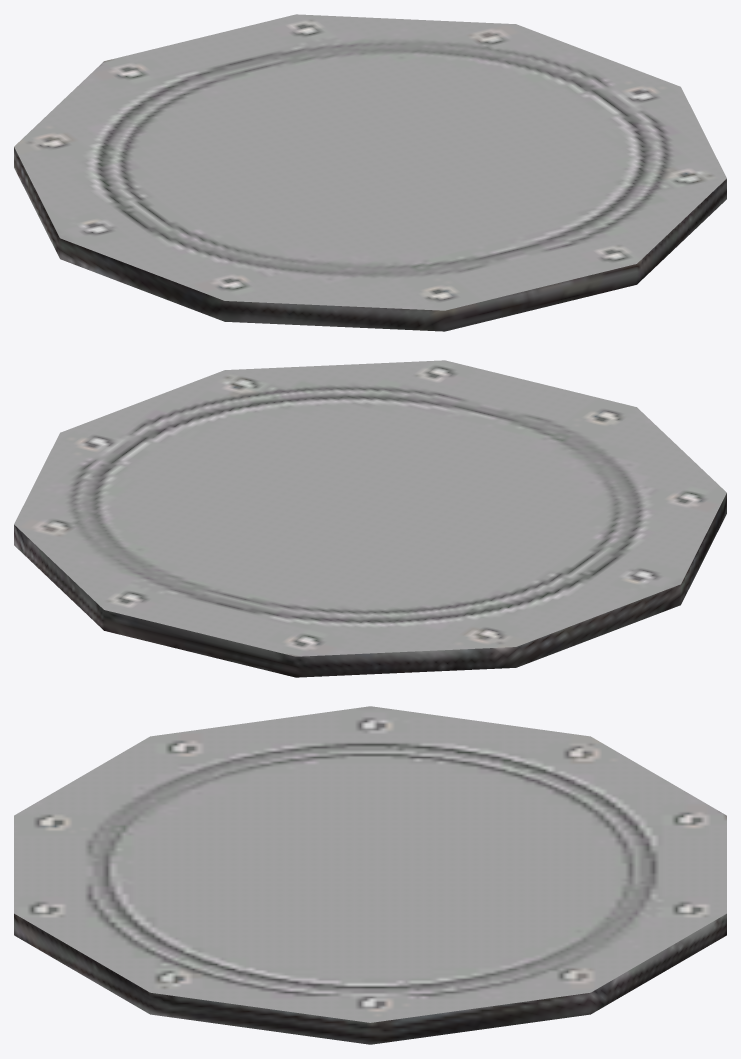
File: msb.glb
The picture shows the model from 3 angles, top to bottom: view 1: azimuth 30°, elevation 25°; view 2: azimuth 150°, elevation 25°; view 3: azimuth 270°, elevation 25°; orthographic projection. The views are drawn at different scales.
Parts seen in each view (by area): view 1: msb-col; view 2: msb-col; view 3: msb-col.
Part boxes in pixels (box(x1,y1,x2,y2)): msb-col: box(14, 14, 726, 331); msb-col: box(14, 360, 726, 677); msb-col: box(14, 706, 726, 1044).
Size of the model in its own units: 0.5224 by 0.0786 by 0.4968.
Materials: 1 (1 with a texture image).
